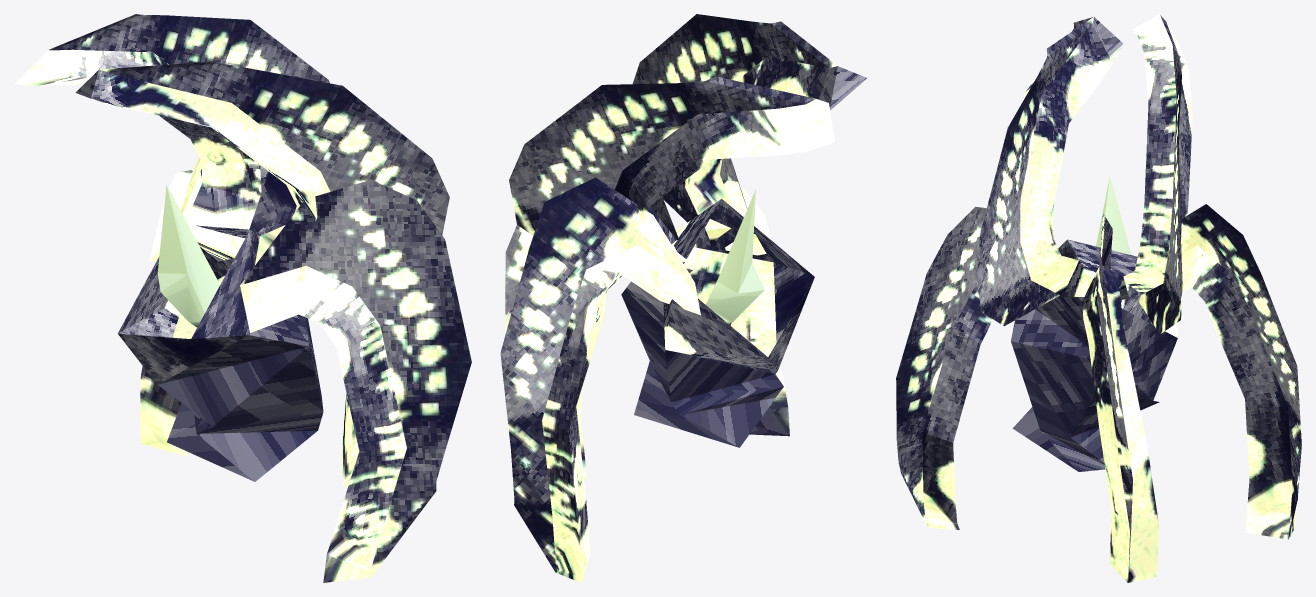
File: saving_flower.glb
3 renders of one model, left to right at view 1: azimuth 30°, elevation 25°; view 2: azimuth 150°, elevation 25°; view 3: azimuth 270°, elevation 25°, orthographic. The views are drawn at different scales.
Parts seen in each view (by area): view 1: saving_flower; view 2: saving_flower; view 3: saving_flower.
Boxes of the visible parts, x1,y1,x2,y2 form: saving_flower: (14,14,471,582); saving_flower: (500,14,866,582); saving_flower: (896,14,1301,582).
Size of the model in its own units: 2.27 by 2.91 by 2.39.
Materials: 1 (1 with a texture image).
